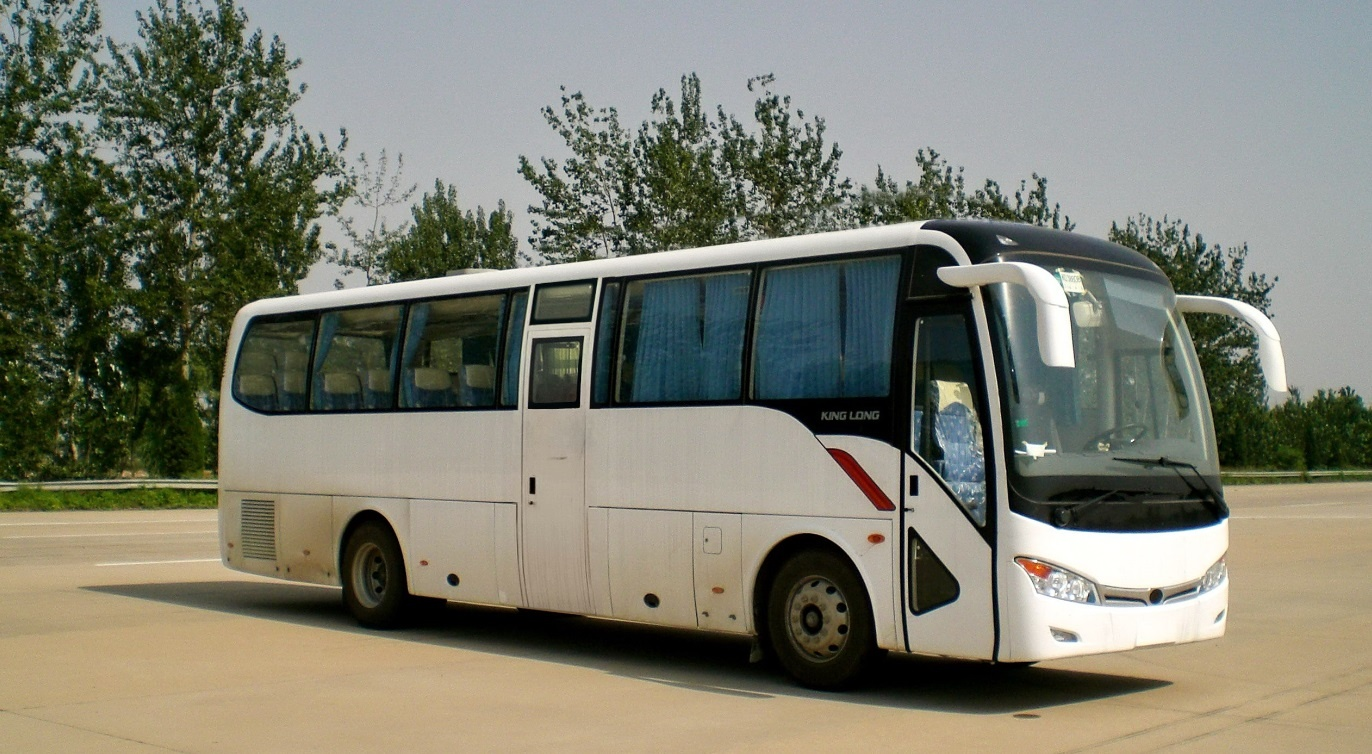bus: (230, 218, 1292, 703)
